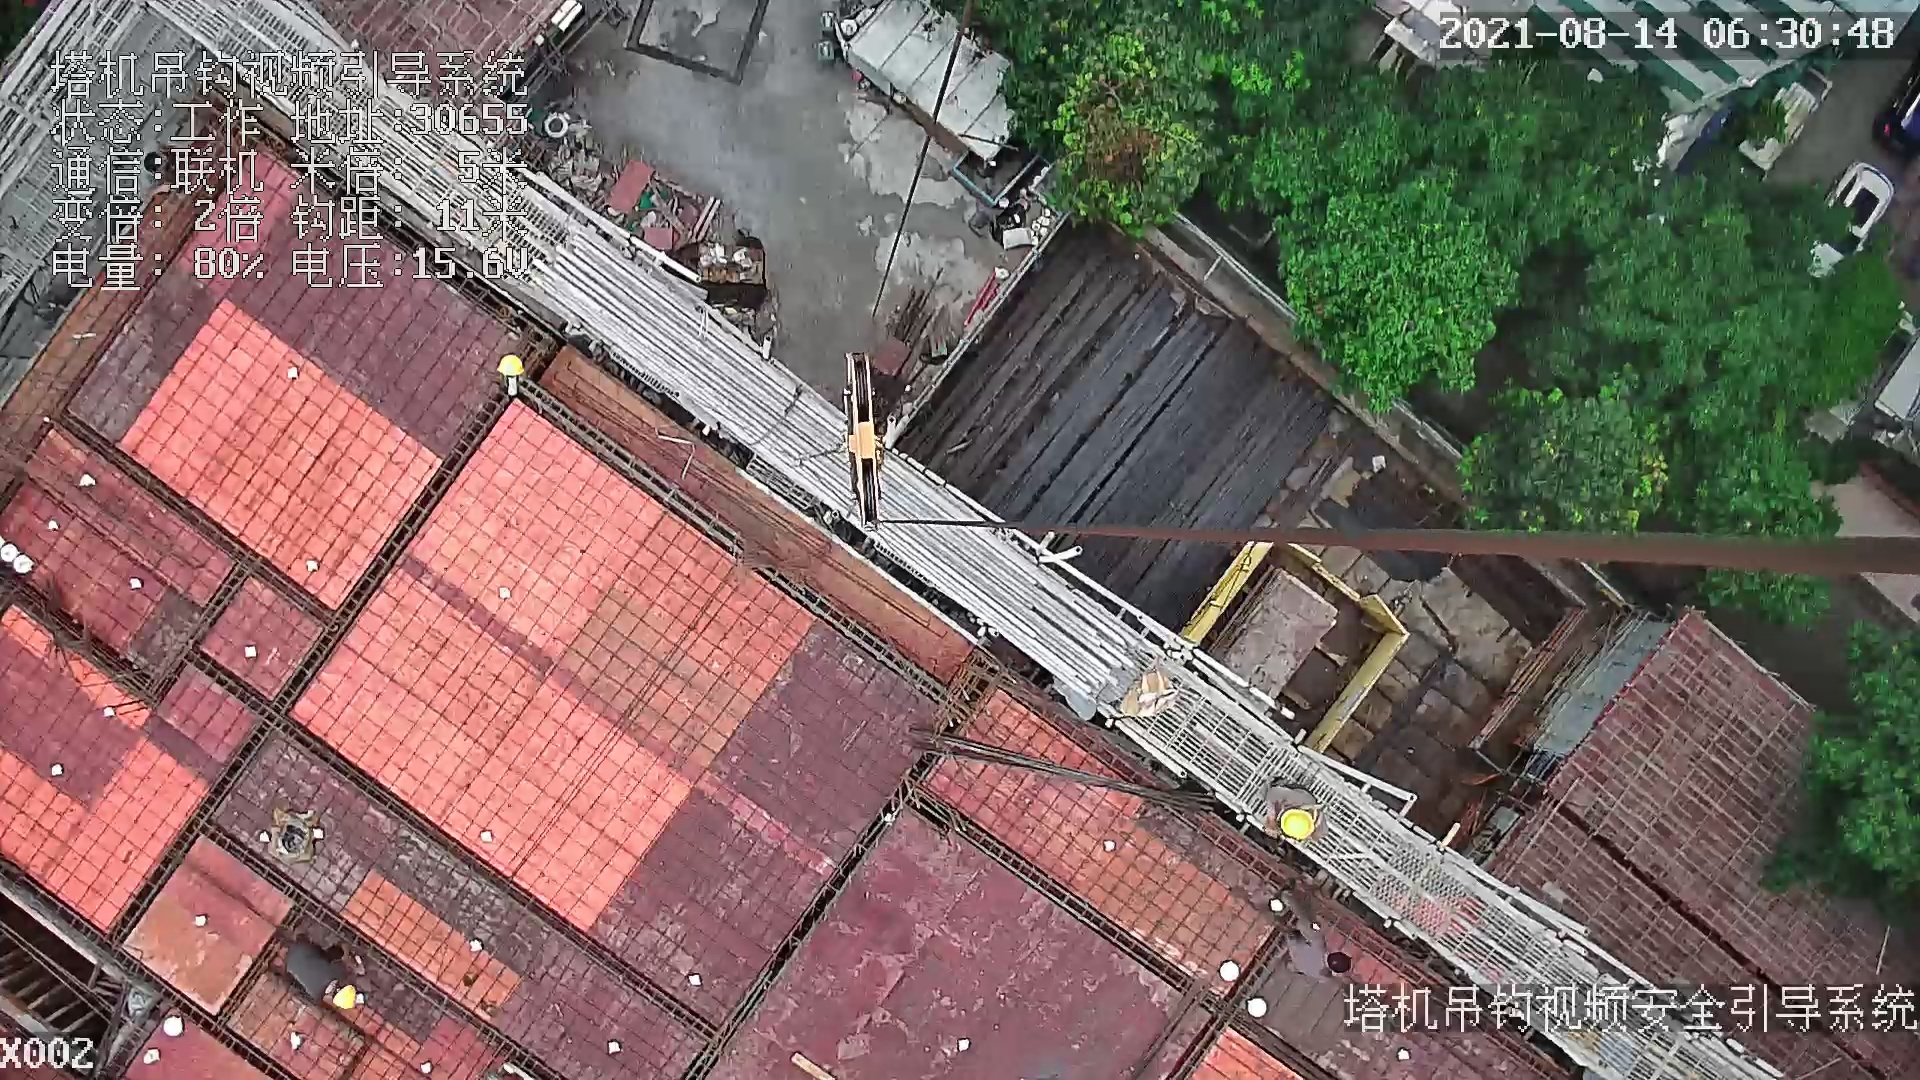helmet: (1276, 808, 1317, 842), (329, 985, 360, 1012), (497, 354, 528, 377)
hook: (828, 347, 892, 532)
person: (282, 933, 369, 1013), (1255, 771, 1333, 850)
rebar: (917, 215, 1349, 626)
